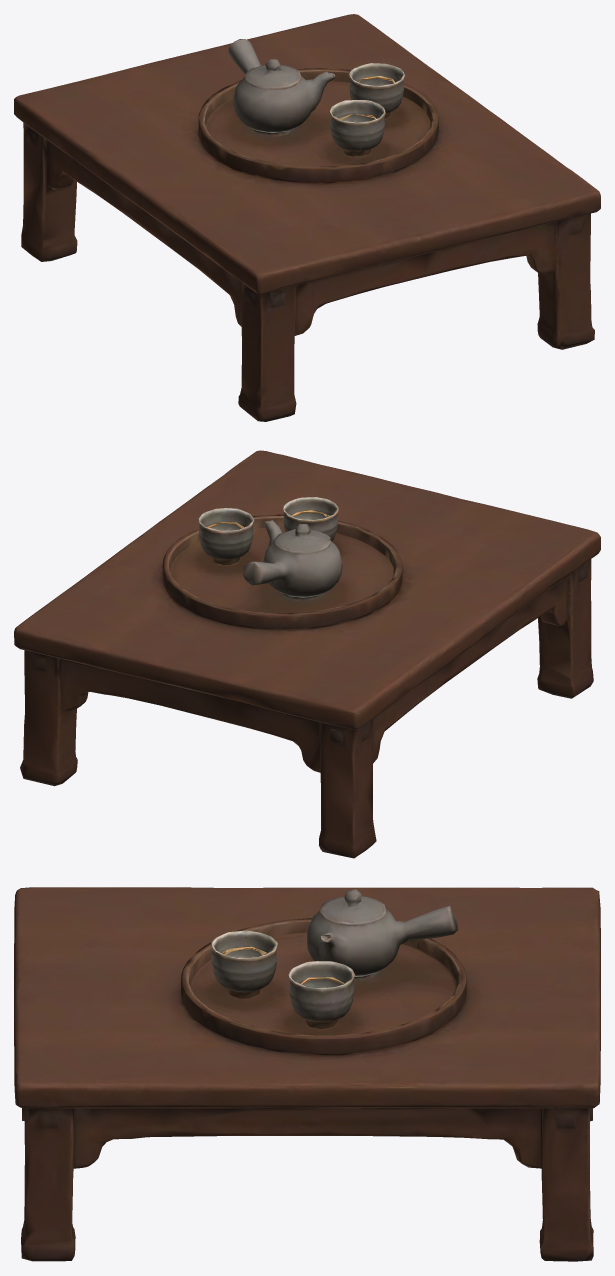
The model's file is chabudai.glb.
3 renders of one model, top to bottom at view 1: azimuth 30°, elevation 25°; view 2: azimuth 150°, elevation 25°; view 3: azimuth 270°, elevation 25°, orthographic. The views are drawn at different scales.
Parts seen in each view (by area): view 1: tripo_node_9a83f533-0ea9-4823-9b5b-33067c543edc; view 2: tripo_node_9a83f533-0ea9-4823-9b5b-33067c543edc; view 3: tripo_node_9a83f533-0ea9-4823-9b5b-33067c543edc.
Boxes of the visible parts, <box> form: tripo_node_9a83f533-0ea9-4823-9b5b-33067c543edc: <box>14,14,600,421</box>; tripo_node_9a83f533-0ea9-4823-9b5b-33067c543edc: <box>14,450,600,858</box>; tripo_node_9a83f533-0ea9-4823-9b5b-33067c543edc: <box>14,887,600,1261</box>.
Bounding box in the file's own units: 0.8083 × 0.5017 × 1.
1 material, 1 textured.
